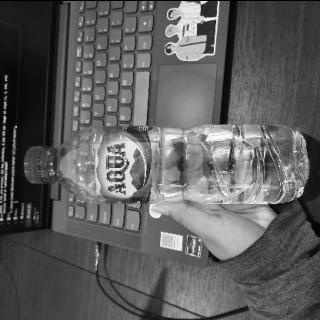plastic_bottles: (22, 120, 310, 206)
